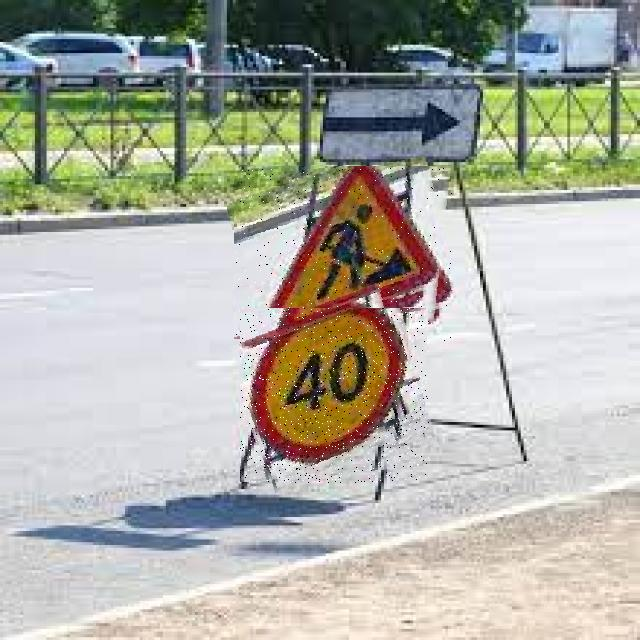roadwork: (234, 166, 453, 341)
speed limit 40: (240, 308, 429, 483)
